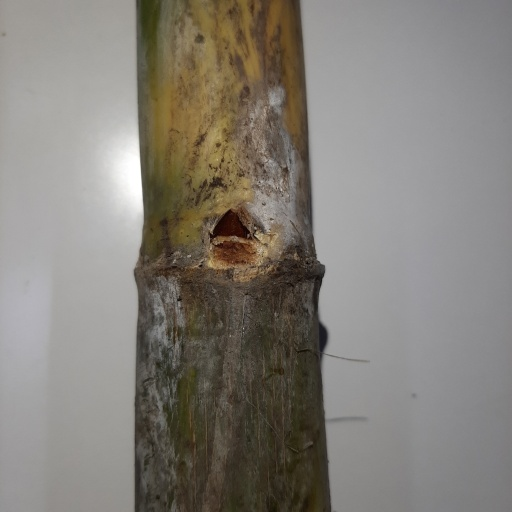Damage_Bud: (208, 209, 259, 256)
